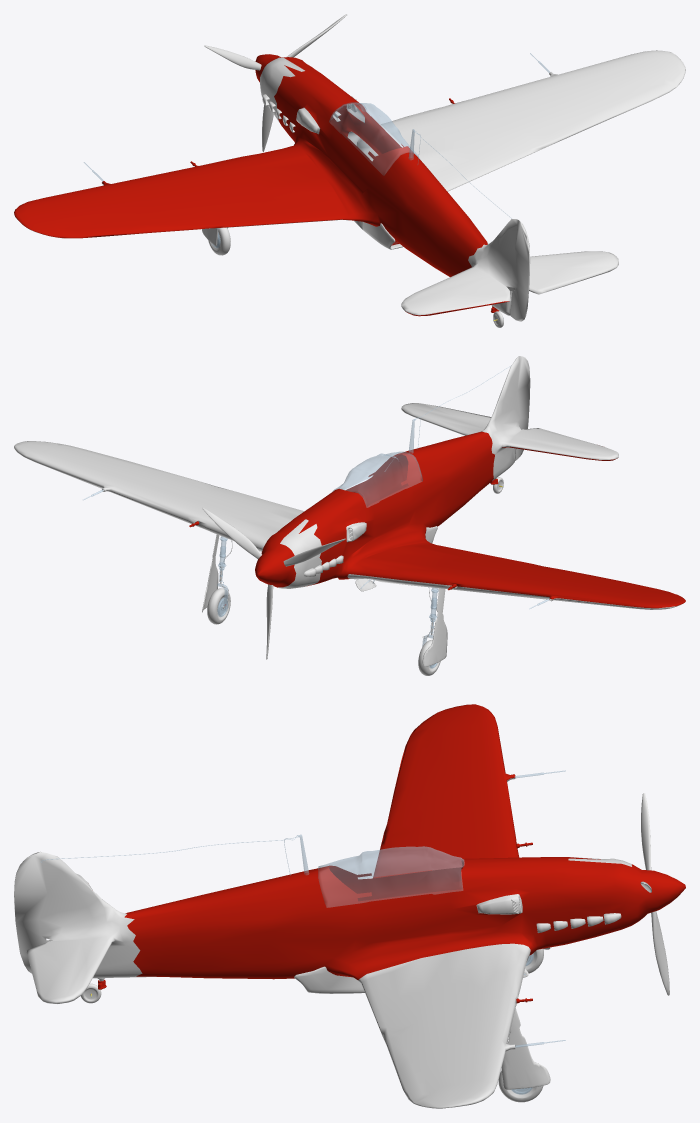
The model's file is kawasaki.glb.
The picture shows the model from 3 angles, top to bottom: view 1: azimuth 30°, elevation 25°; view 2: azimuth 150°, elevation 25°; view 3: azimuth 270°, elevation 25°; orthographic projection. The views are drawn at different scales.
Parts seen in each view (by area): view 1: BASIC_PLANE_SHAPE_Plane.129, BezierCurve.005; view 2: BASIC_PLANE_SHAPE_Plane.129, BezierCurve.005; view 3: BASIC_PLANE_SHAPE_Plane.129, BezierCurve.005.
Boxes of the visible parts, x1,y1,x2,y2 form: BASIC_PLANE_SHAPE_Plane.129: [14, 14, 685, 327]; BezierCurve.005: [84, 53, 549, 321]; BASIC_PLANE_SHAPE_Plane.129: [14, 356, 685, 675]; BezierCurve.005: [83, 366, 550, 668]; BASIC_PLANE_SHAPE_Plane.129: [14, 704, 685, 1108]; BezierCurve.005: [41, 770, 565, 1094].
Bounding box in the file's own units: 12 × 2.85 × 8.53.
